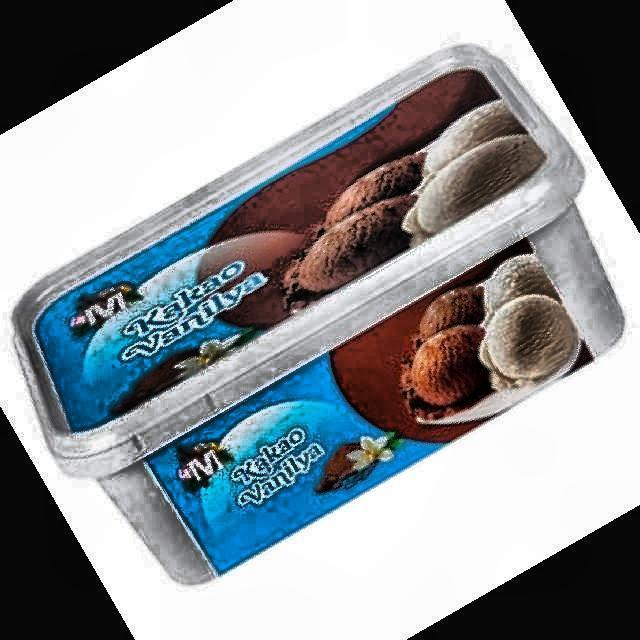plastic: (14, 45, 621, 583)
